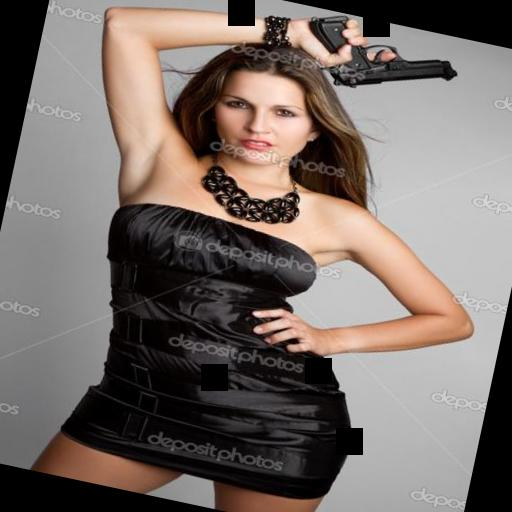Handgun: (290, 6, 470, 112)
